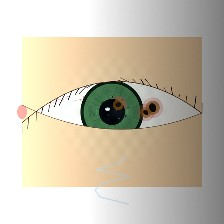foreign_body_visible: (131, 101, 160, 124)
